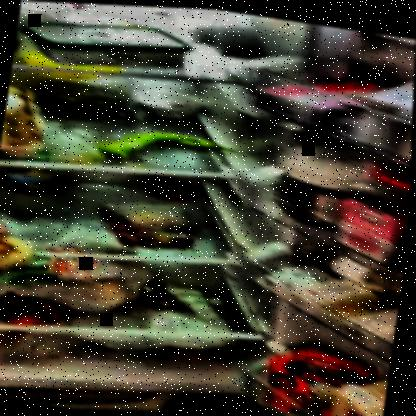cream_cheese: (27, 11, 188, 77)
green_chillies: (97, 122, 234, 173)
milk: (330, 372, 390, 415)
olives: (36, 80, 130, 125)
